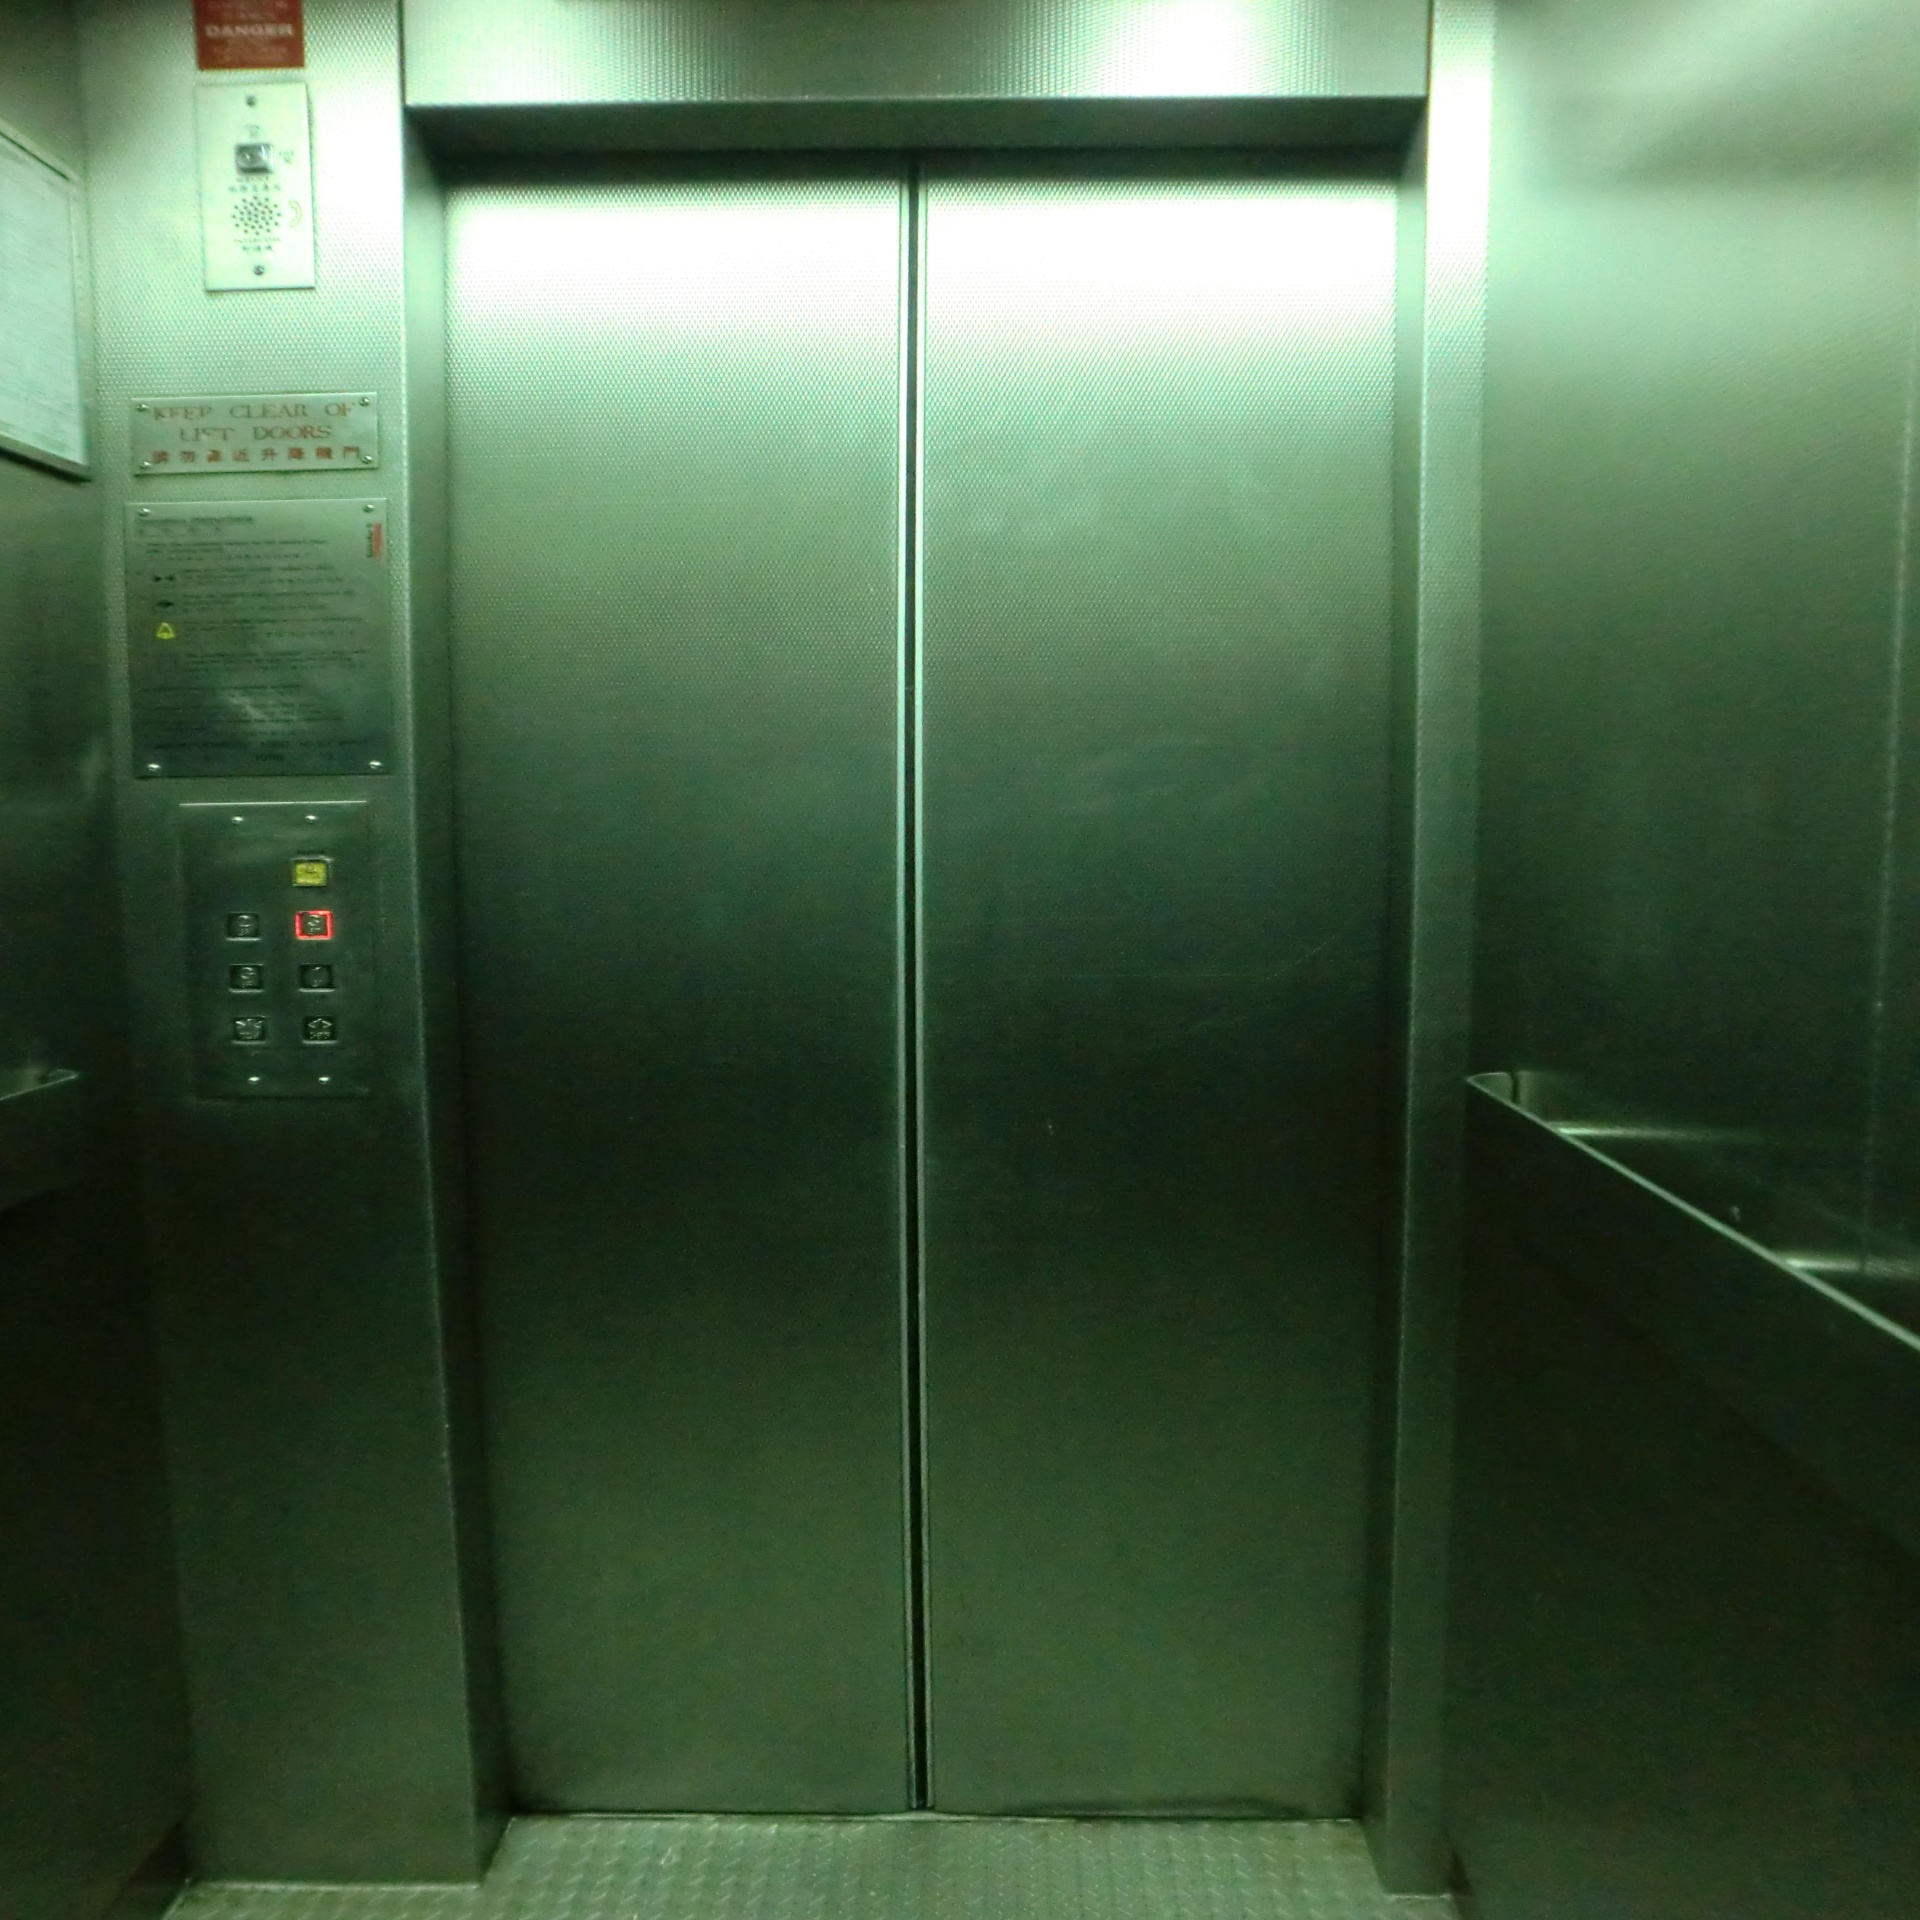2: (223, 909, 262, 942)
G: (225, 962, 265, 995)
S: (292, 911, 334, 944)
alarm: (285, 855, 332, 891)
blur: (297, 960, 336, 993)
close: (230, 1015, 269, 1044)
keyhole: (232, 137, 273, 176)
open: (295, 1013, 343, 1050)
